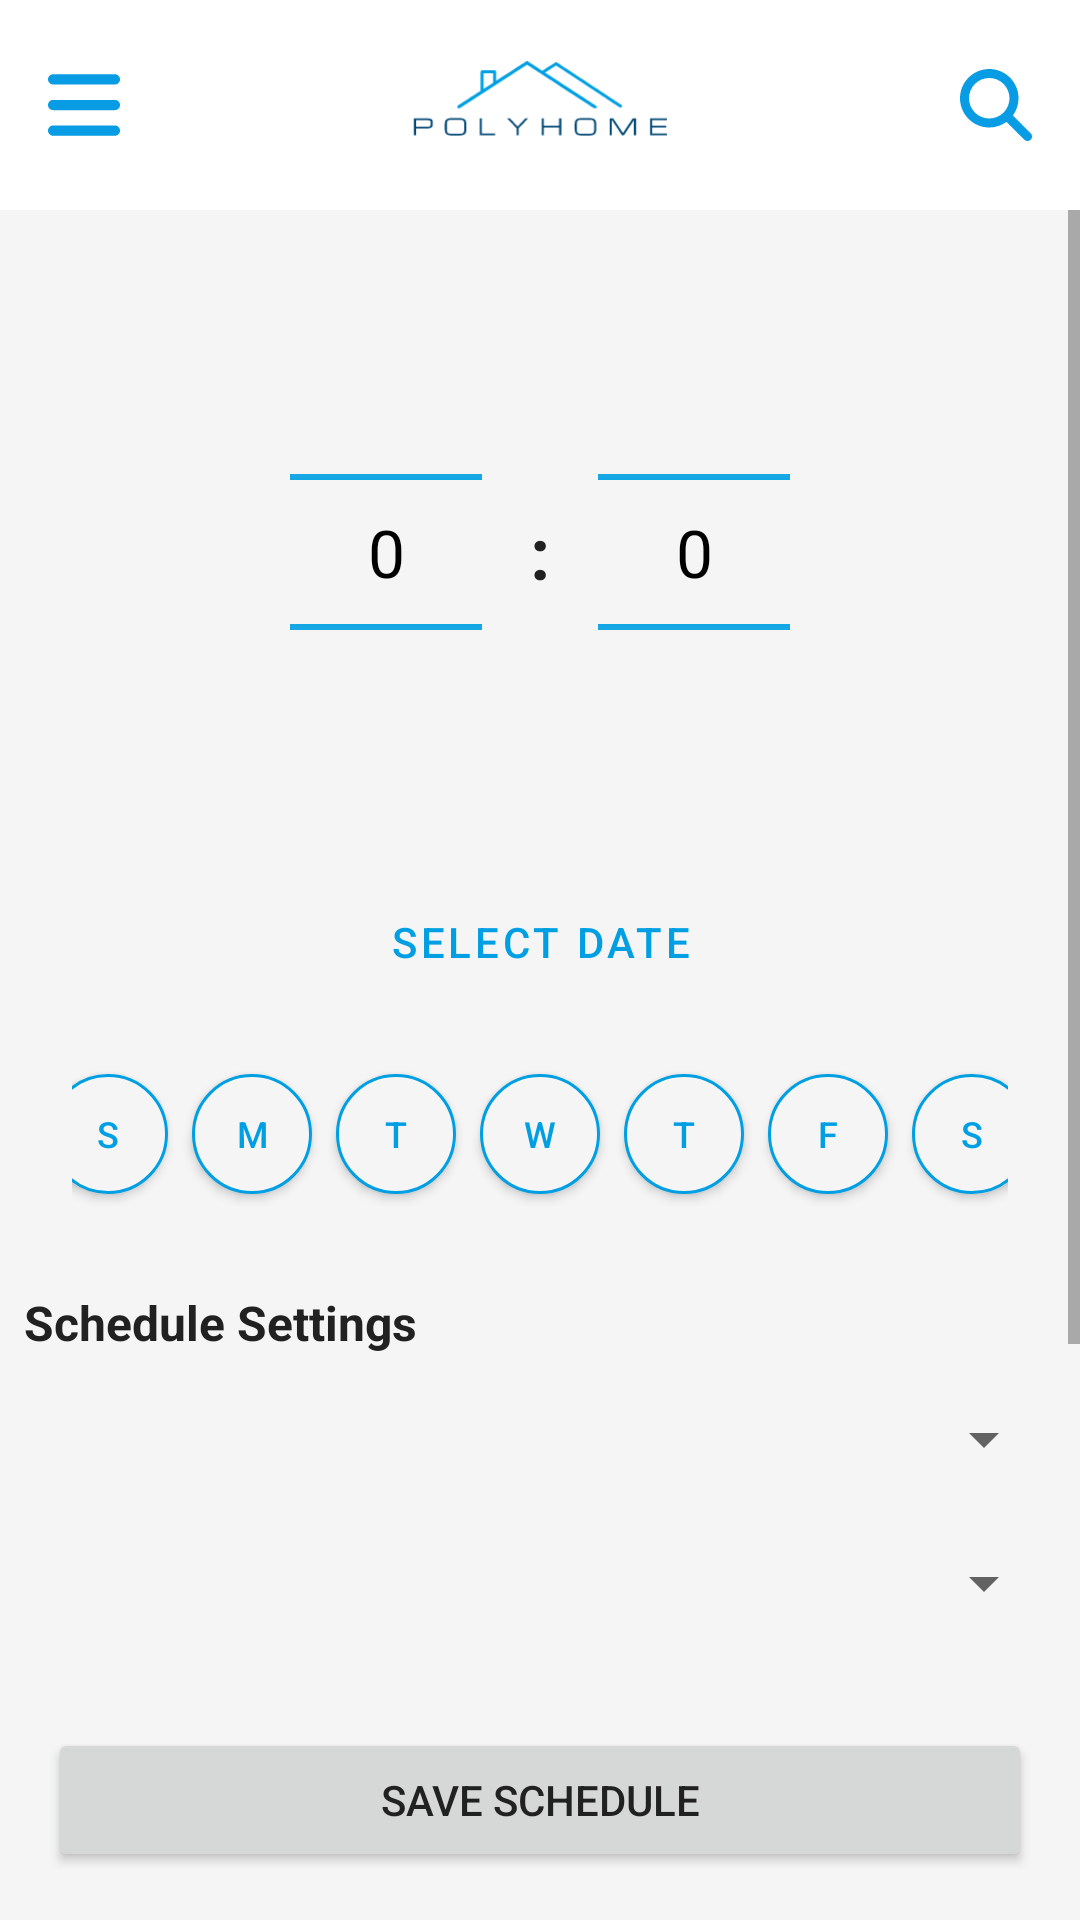

Point at icon controls on the screen. Image size 1080 × 1920, points as [x,y].
Menu Button: [84,105]
Search Icon: [996,105]
